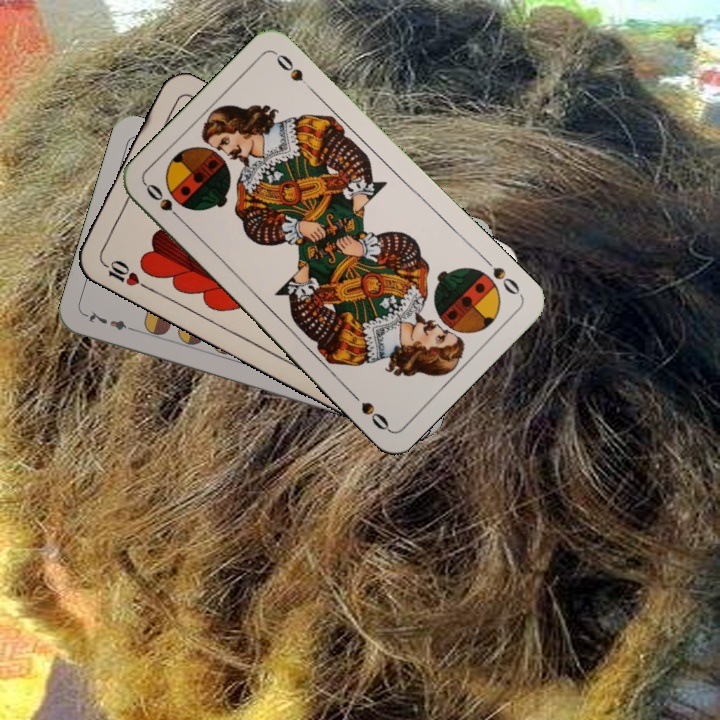E7: (82, 307, 140, 334)
H10: (96, 255, 150, 292)
SO: (142, 179, 188, 227), (479, 253, 525, 299)
